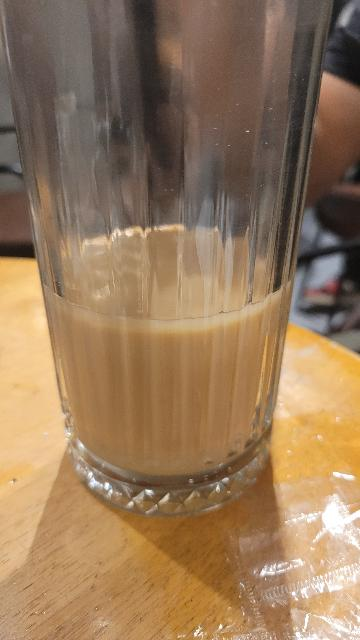Cam: (0, 2, 335, 507)
